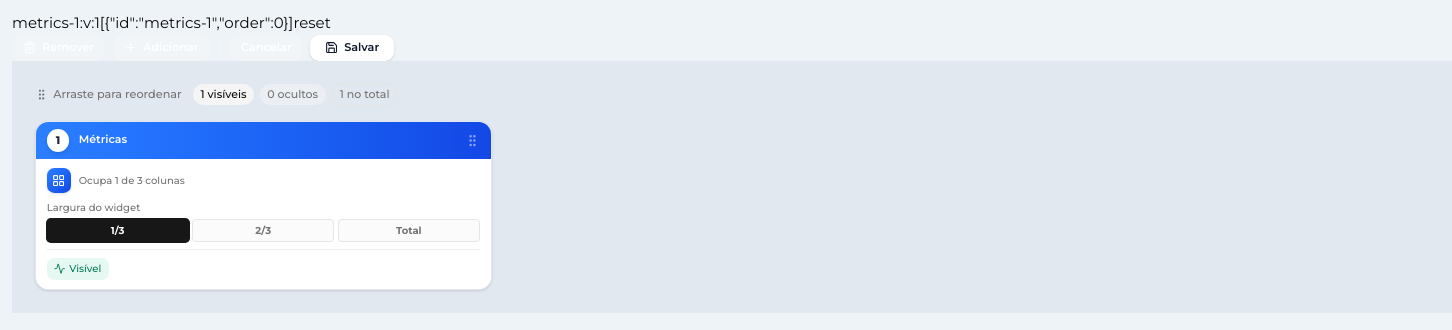
Test: Item 4 — comportamentos preservados (adicionar/remover/ocultar/exibir/arrastar) › Ocultar/Exibir: o toggle inverte a visibilidade do widget
Expected: the text with test id "ids" reads "metrics-1:v:1", [12,13,100,32]
Click the button with aria-label "ocultar widget métricas" at (78, 269), box [47,258,109,280]
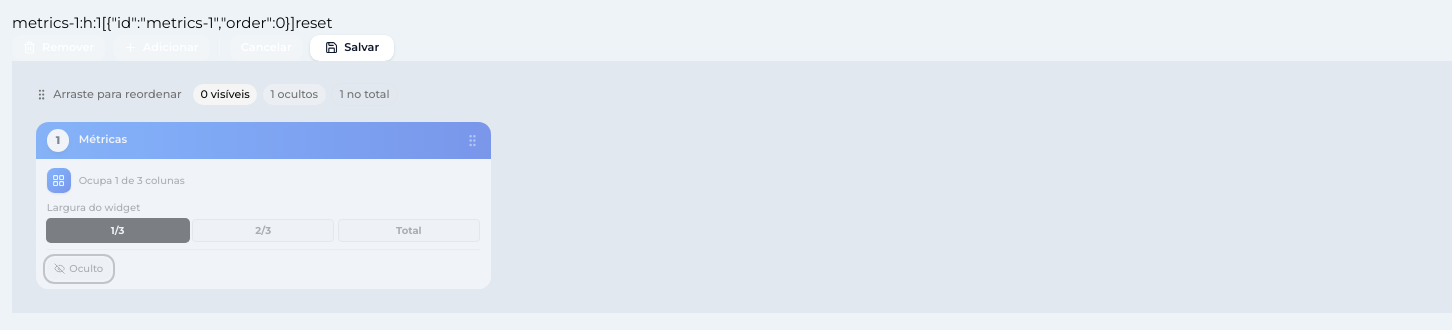
Expected: the text with test id "ids" reads "metrics-1:h:1", [12,13,102,32]
Click the button with aria-label "exibir widget métricas" at (79, 269), box [47,258,111,280]
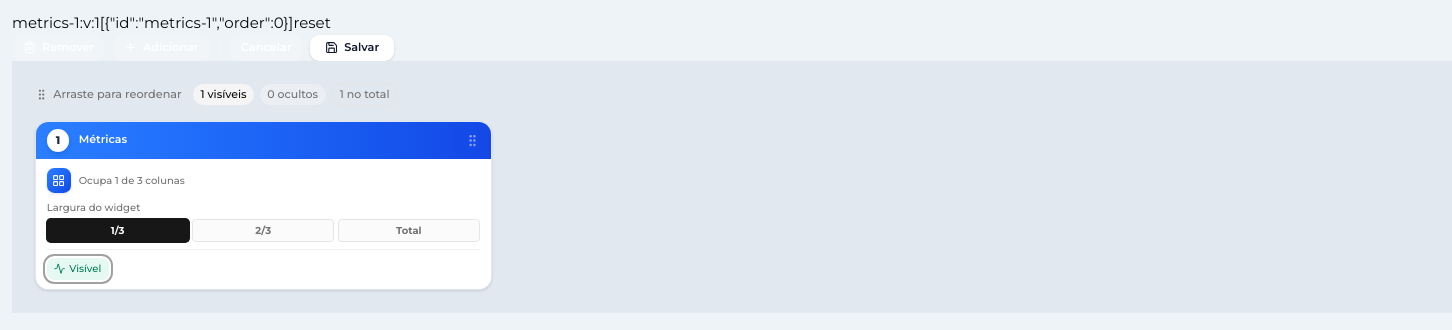
Expected: the text with test id "ids" reads "metrics-1:v:1", [12,13,100,32]
